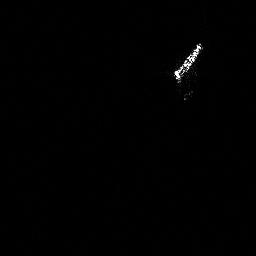ship: (171, 39, 203, 103)
